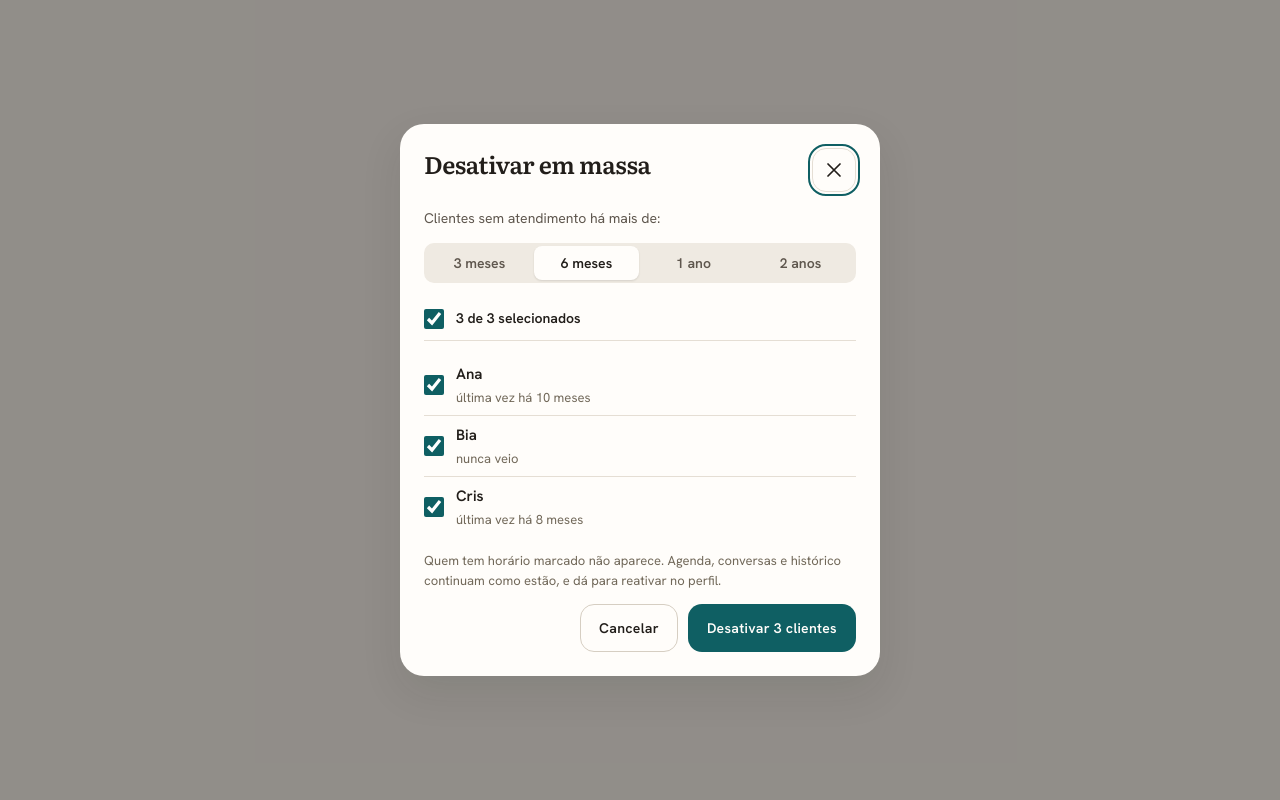
Scenario: Desativar em massa › trocar o período busca de novo e marca a nova lista
This screenshot has width=1280, height=800.
Expected: the text "3 de 3 selecionados" is shown, [456, 308, 581, 329]
Step 1. Click the button "1 ano" → (694, 263), box [641, 246, 746, 280]
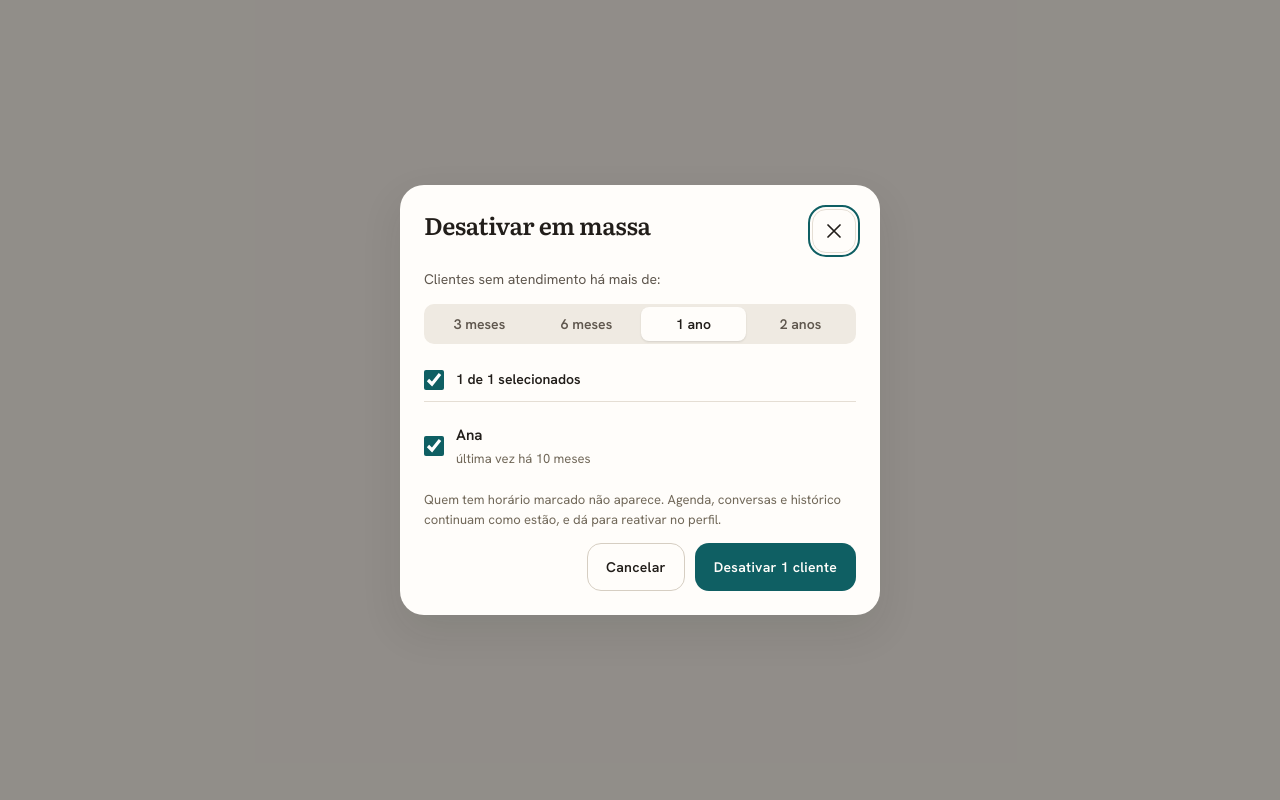
Expected: the text "1 de 1 selecionados" is shown, [456, 369, 581, 390]
